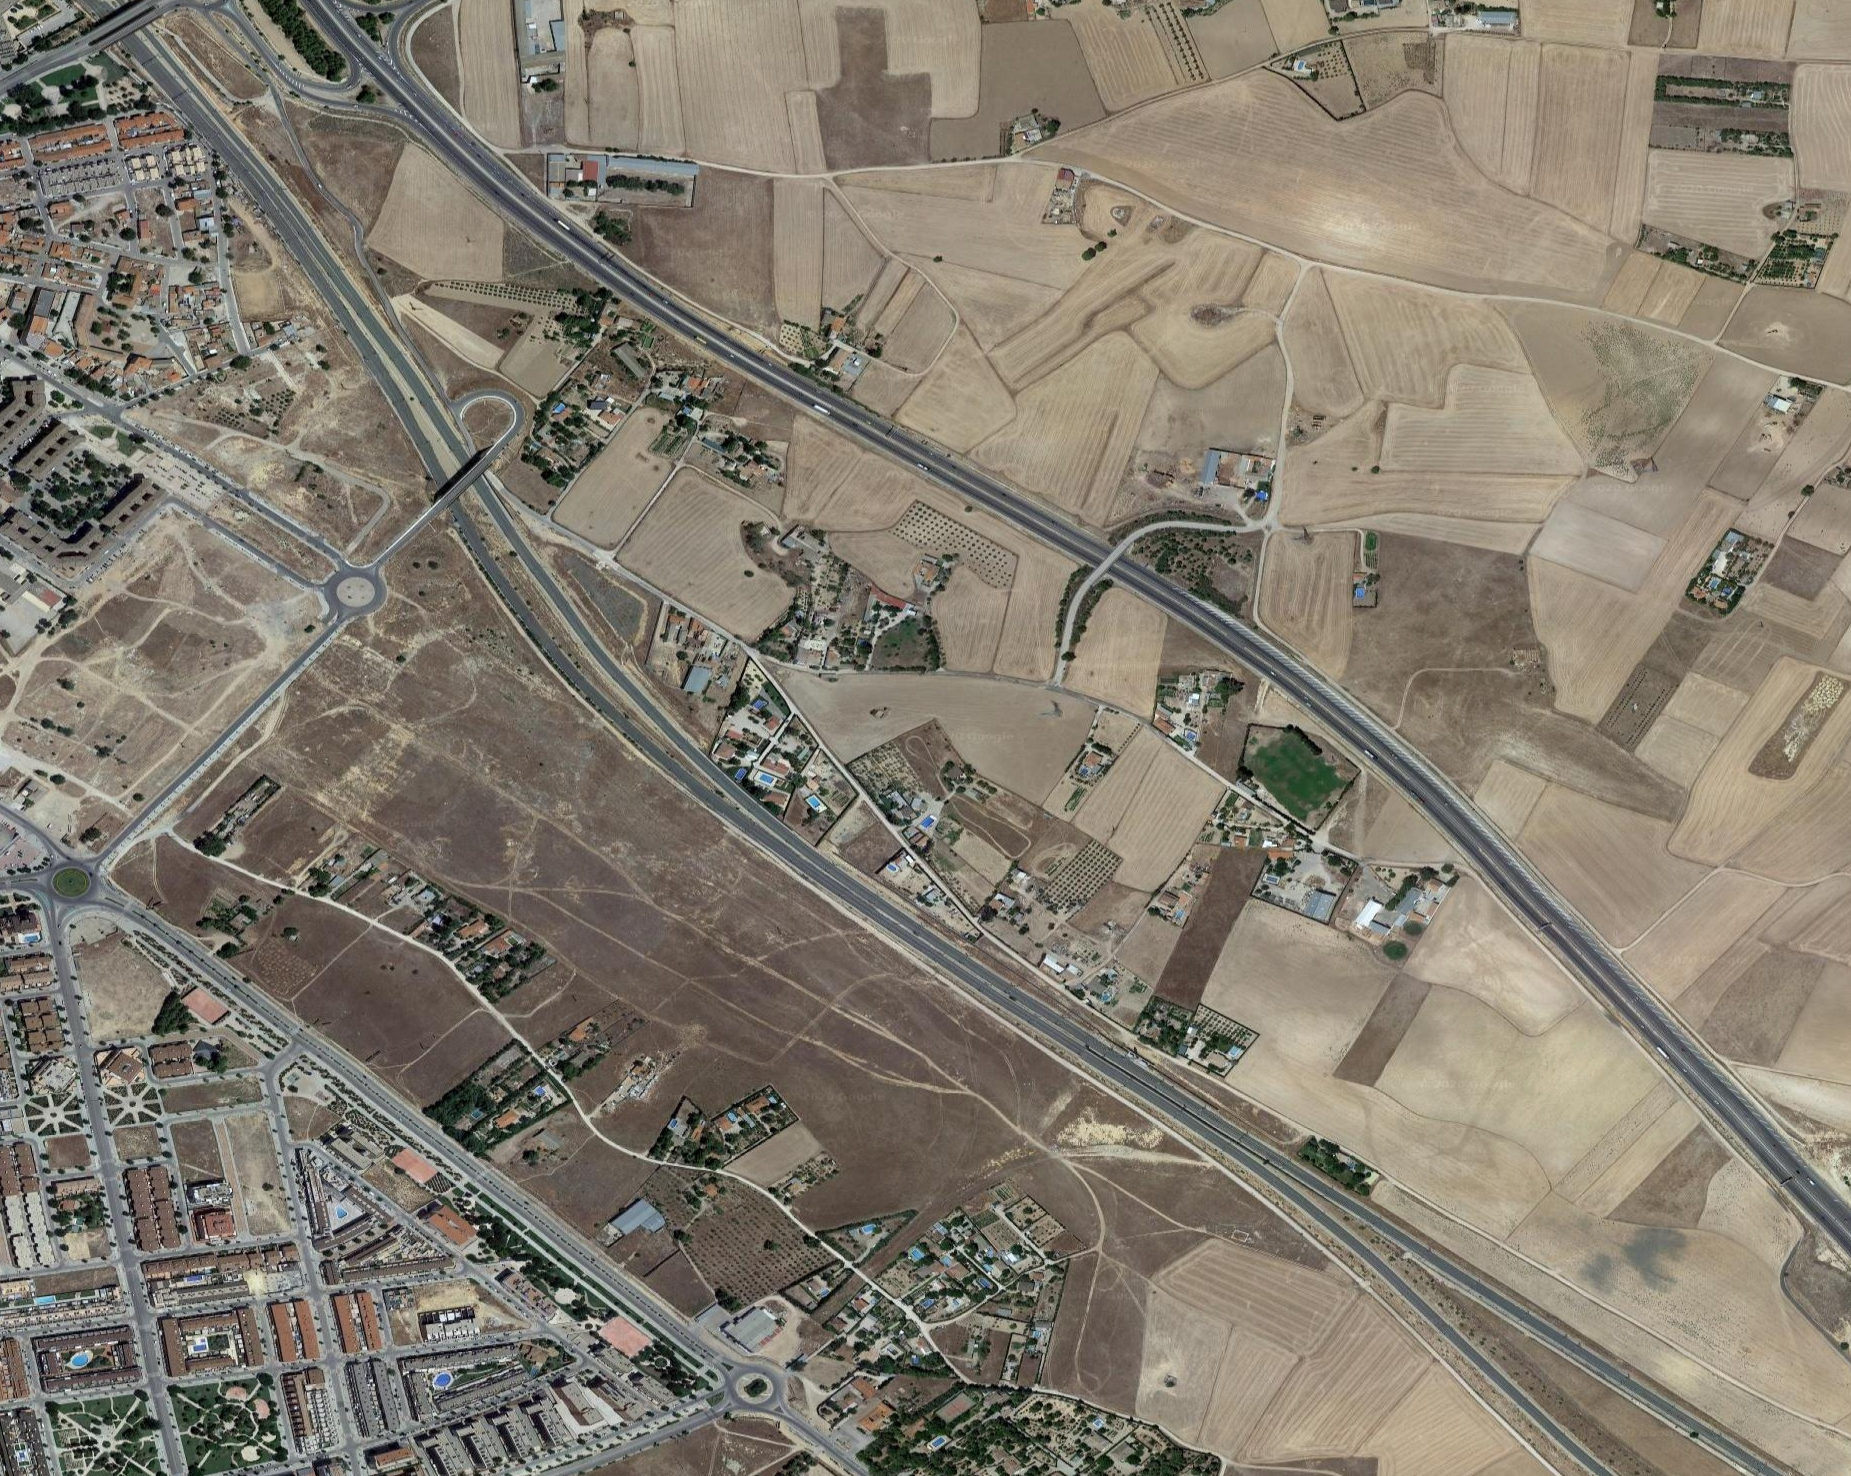motorway: (1125, 810, 1851, 1476), (700, 477, 1395, 1086), (334, 238, 941, 738), (78, 2, 611, 428), (63, 813, 367, 1093), (337, 1056, 642, 1336), (622, 1298, 893, 1476)
